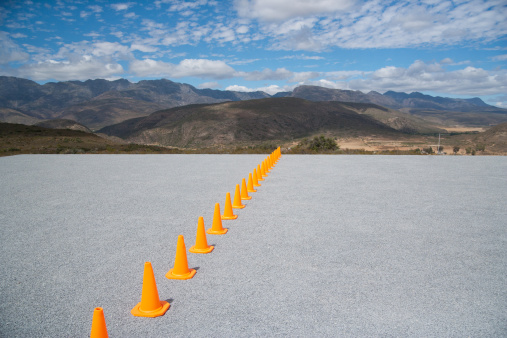trafficcone: (131, 260, 170, 317), (165, 235, 196, 281), (189, 217, 215, 254), (206, 203, 227, 235), (89, 307, 107, 338), (221, 192, 237, 220), (231, 184, 246, 210), (239, 179, 251, 200), (247, 173, 257, 193), (252, 169, 261, 186)
